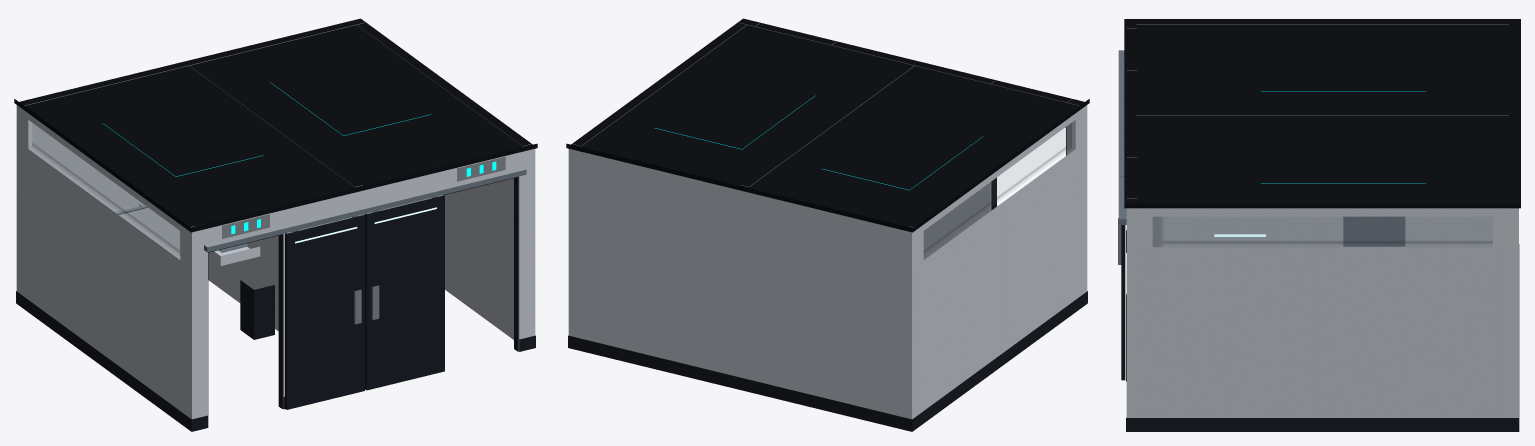
The picture shows the model from 3 angles, left to right: view 1: azimuth 30°, elevation 25°; view 2: azimuth 150°, elevation 25°; view 3: azimuth 270°, elevation 25°; orthographic projection. The views are drawn at different scales.
Parts seen in each view (by area): view 1: Roof_Slab, Shell_Walls, Leaf_A_Panel, Leaf_B_Panel, Base_Band, Door_Jambs, Door_Track, Bin, Sign_Plates, Lavatory, Clerestory_Glass; view 2: Shell_Walls, Roof_Slab, Base_Band, Clerestory_Glass; view 3: Shell_Walls, Roof_Slab, Base_Band, Change_Station, Mirror, Clerestory_Glass, Door_Track, Leaf_B_Panel.
Boxes of the visible parts, x1,y1,x2,y2 form: Roof_Slab: [14, 18, 537, 232]; Shell_Walls: [16, 22, 535, 419]; Leaf_A_Panel: [285, 214, 364, 409]; Leaf_B_Panel: [365, 195, 444, 390]; Base_Band: [16, 291, 535, 431]; Door_Jambs: [208, 177, 518, 414]; Door_Track: [204, 169, 526, 252]; Bin: [240, 280, 274, 339]; Sign_Plates: [222, 156, 505, 238]; Lavatory: [208, 246, 260, 265]; Clerestory_Glass: [32, 142, 179, 255]; Shell_Walls: [568, 22, 1087, 419]; Roof_Slab: [566, 18, 1089, 232]; Base_Band: [568, 291, 1087, 431]; Clerestory_Glass: [924, 123, 1071, 253]; Shell_Walls: [1126, 24, 1518, 417]; Roof_Slab: [1124, 19, 1520, 208]; Base_Band: [1126, 230, 1519, 431]; Change_Station: [1193, 218, 1286, 249]; Mirror: [1343, 216, 1405, 246]; Clerestory_Glass: [1153, 217, 1492, 246]; Door_Track: [1118, 50, 1126, 224]; Leaf_B_Panel: [1121, 225, 1125, 380].
Size of what is drawn, in the model's own units: 4.34 by 2.45 by 3.9.
Materials: 12 (6 with a texture image).
